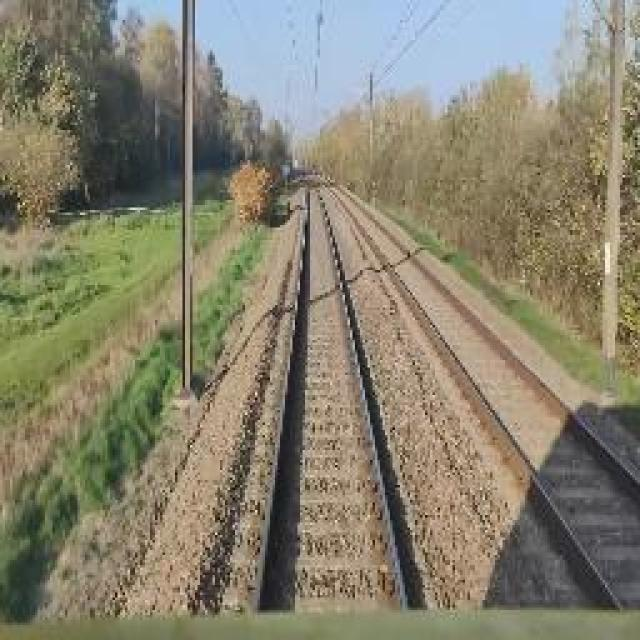rail: (316, 182, 640, 611), (214, 176, 444, 616)
